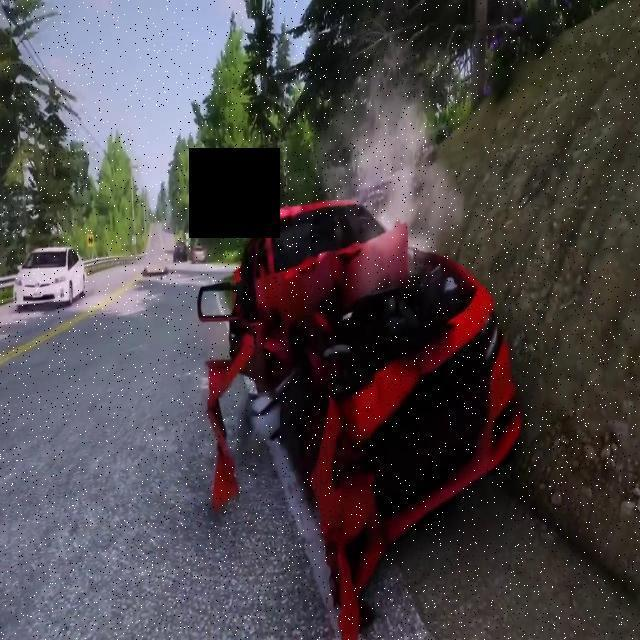vehicle: (168, 148, 532, 632)
